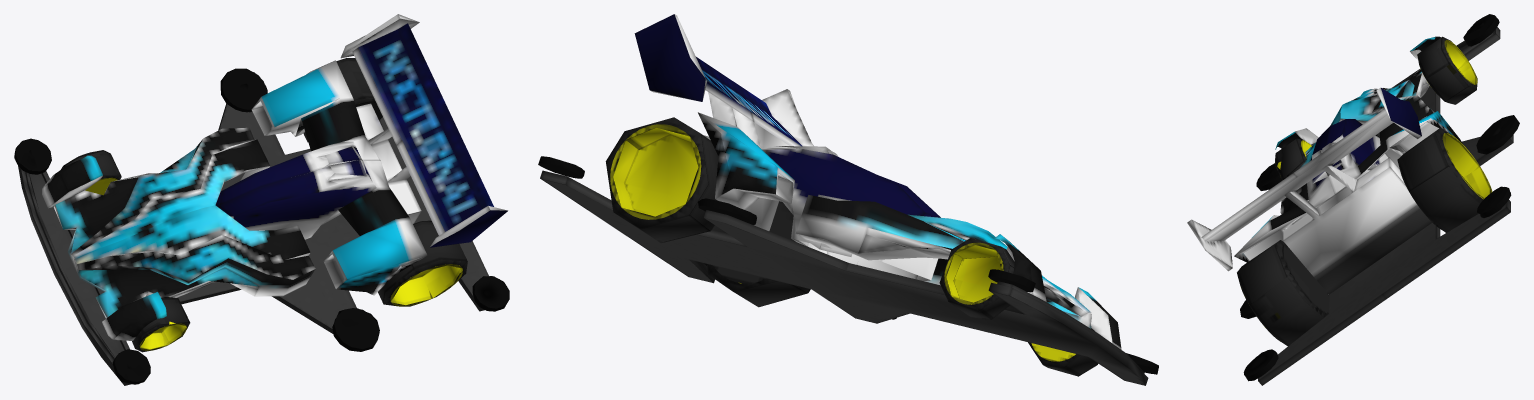
File: ref_toycar.glb
3 views of the same model, side by side, from view 1: azimuth 30°, elevation 25°; view 2: azimuth 150°, elevation 25°; view 3: azimuth 270°, elevation 25° (orthographic). The views are drawn at different scales.
Parts seen in each view (by area): view 1: ref_toycar; view 2: ref_toycar; view 3: ref_toycar.
Boxes of the visible parts, x1,y1,x2,y2 form: ref_toycar: [14, 14, 509, 385]; ref_toycar: [538, 14, 1158, 385]; ref_toycar: [1187, 14, 1519, 385].
Size of the model in its own units: 1 by 0.6443 by 0.6977.
1 material, 1 textured.
